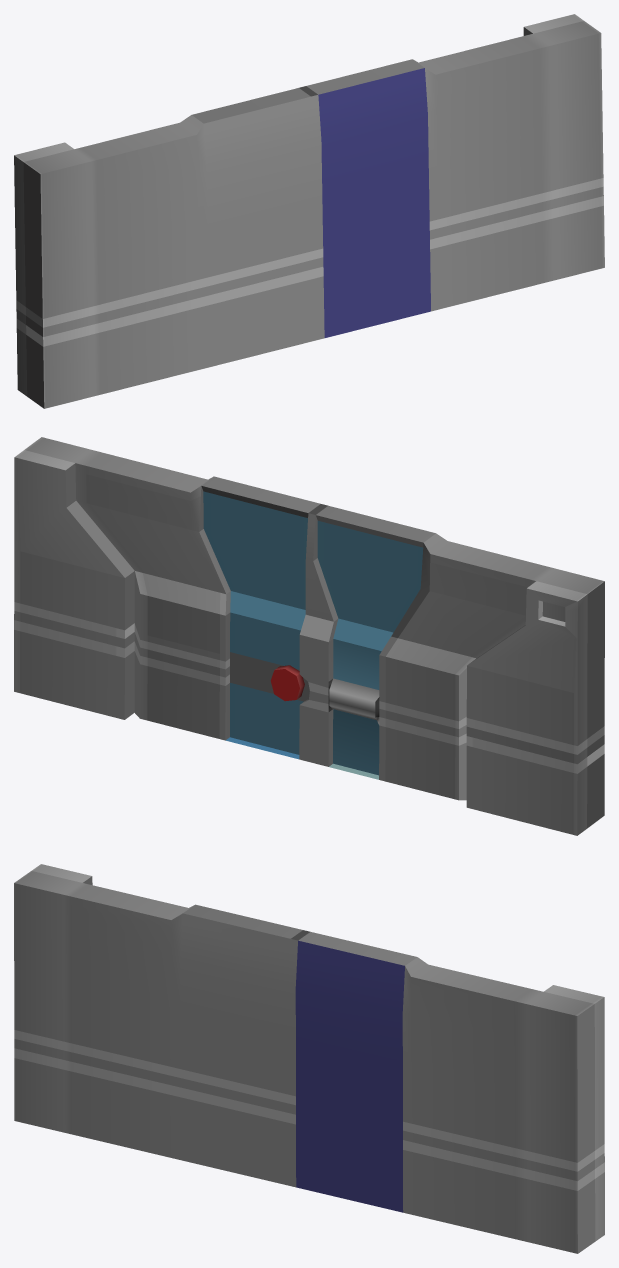
Rendered from puertasVerticall.fbx.
3 views of the same model, one above another, from view 1: azimuth 30°, elevation 25°; view 2: azimuth 150°, elevation 25°; view 3: azimuth 330°, elevation 25° (orthographic).
Parts seen in each view (by area): view 1: puertaVertical; view 2: puertaVertical; view 3: puertaVertical.
Boxes of the visible parts, <box> form: puertaVertical: <box>14,14,604,408</box>; puertaVertical: <box>14,437,604,835</box>; puertaVertical: <box>14,864,604,1253</box>.
Bounding box in the file's own units: 688 × 287 × 62.65.
